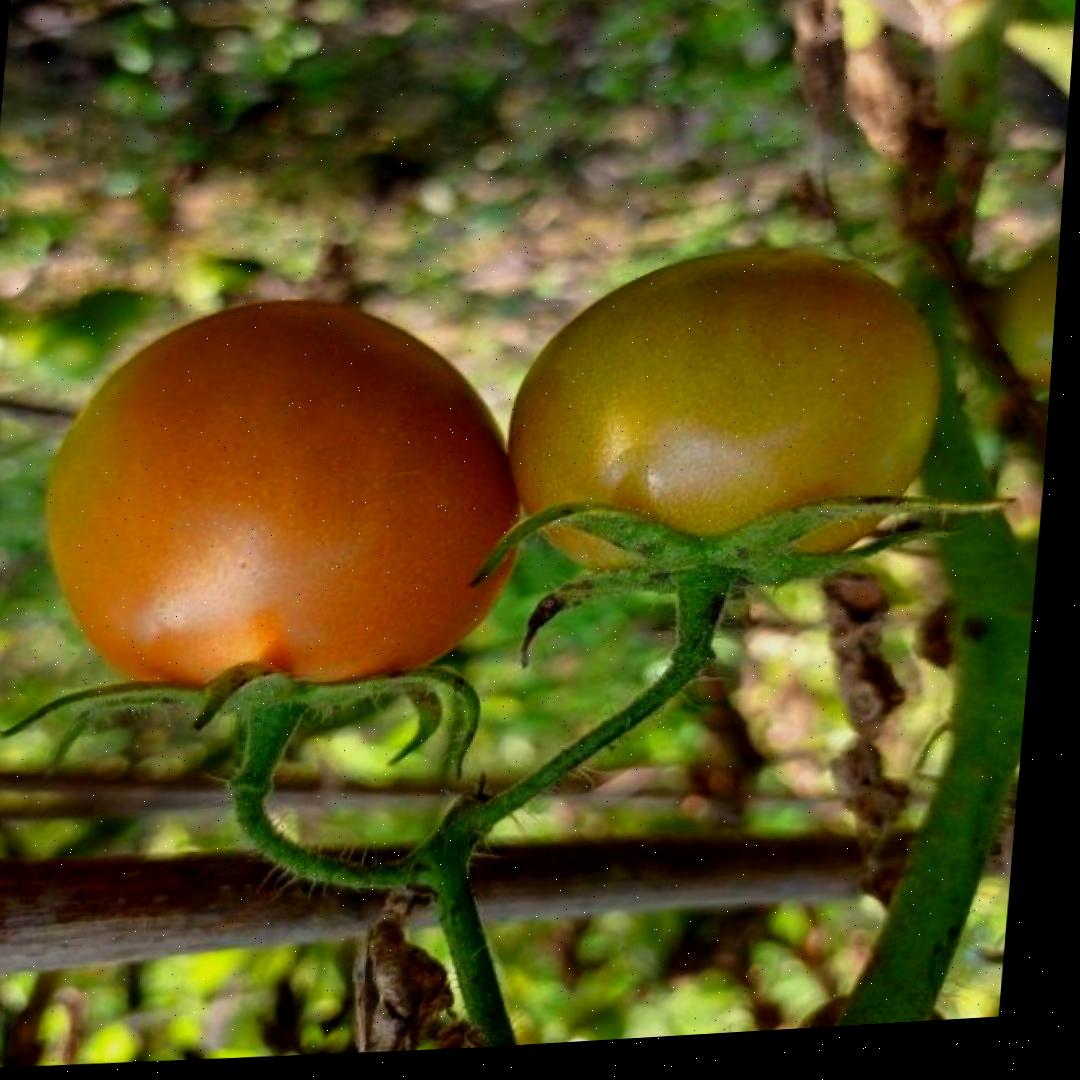setengah_matang: (24, 276, 545, 736), (492, 235, 957, 607)
